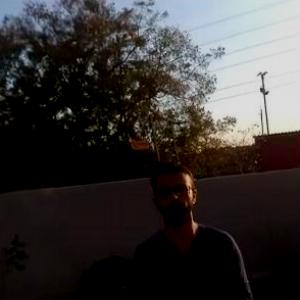follow: (127, 157, 258, 299)
